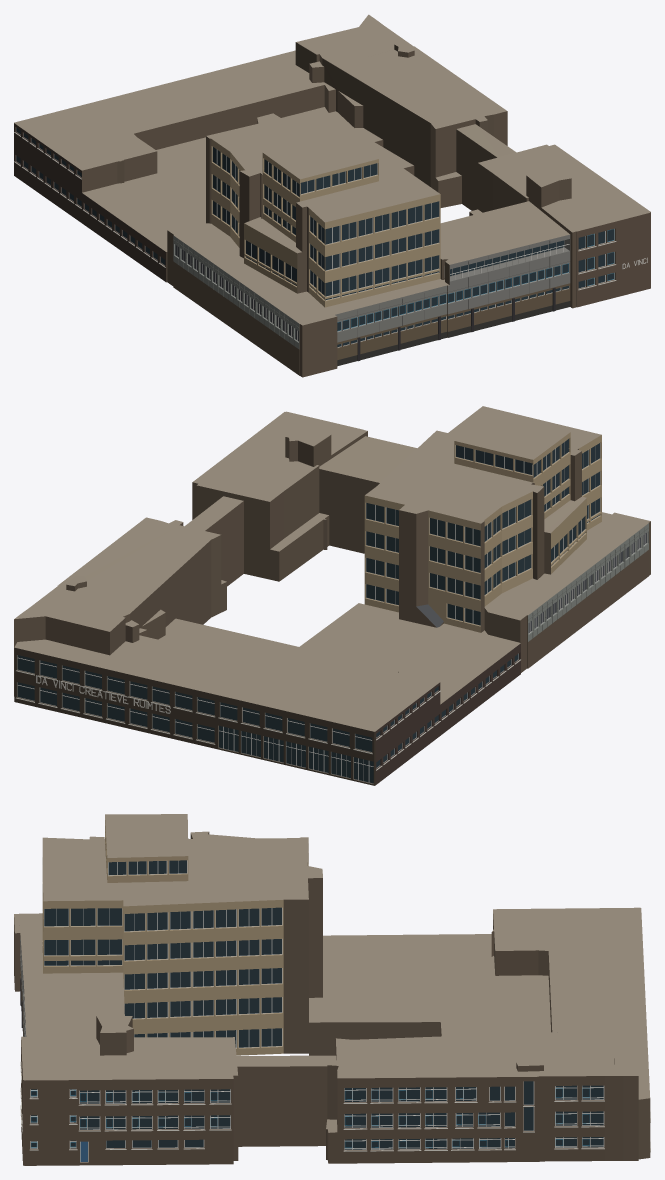
File: recipe-large-nieuwpoortkade-2-090791.glb
3 renders of one model, top to bottom at view 1: azimuth 30°, elevation 25°; view 2: azimuth 150°, elevation 25°; view 3: azimuth 270°, elevation 25°, orthographic. The views are drawn at different scales.
Visible parts, largest first — view 1: nieuwpoortkade-2-090791; view 2: nieuwpoortkade-2-090791; view 3: nieuwpoortkade-2-090791.
Boxes of the visible parts, <box> form: nieuwpoortkade-2-090791: <box>14,14,650,377</box>; nieuwpoortkade-2-090791: <box>14,406,650,785</box>; nieuwpoortkade-2-090791: <box>14,814,650,1165</box>.
Size of the model in its own units: 56.62 by 23.69 by 76.41.
